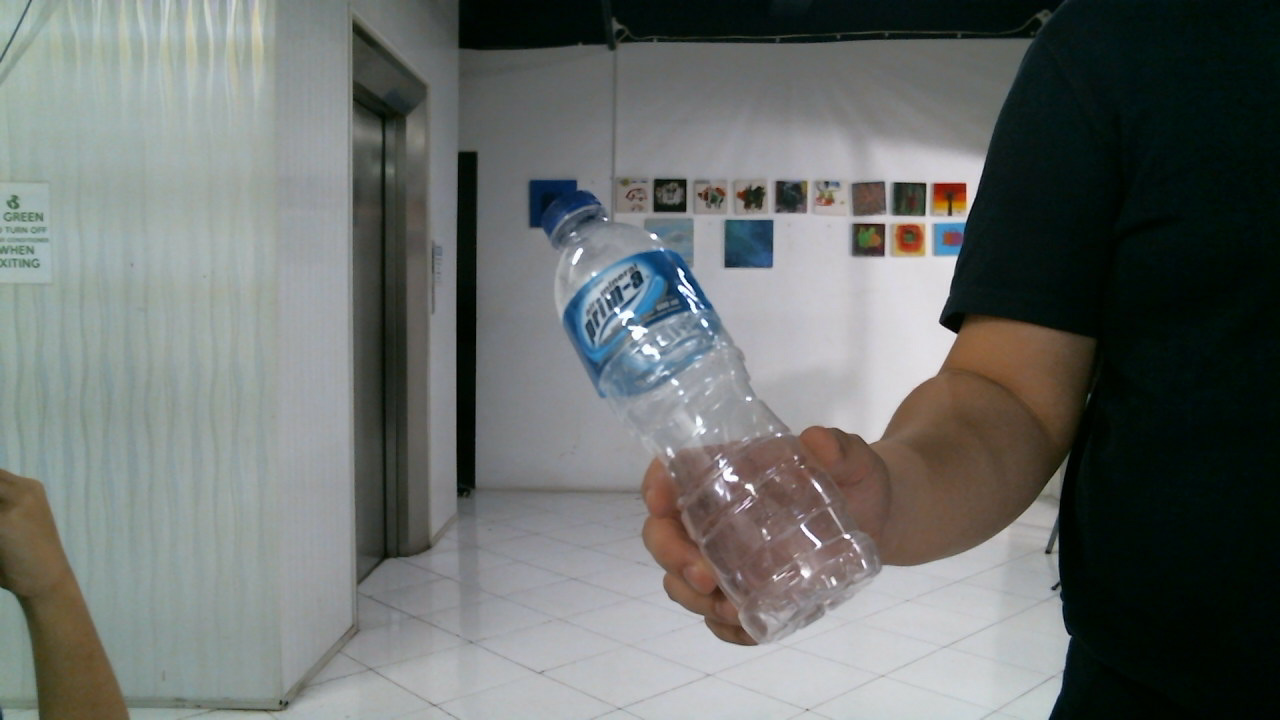Bottle: (541, 186, 883, 639)
